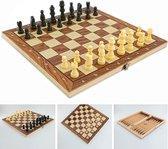schaak: (1, 1, 168, 99)
